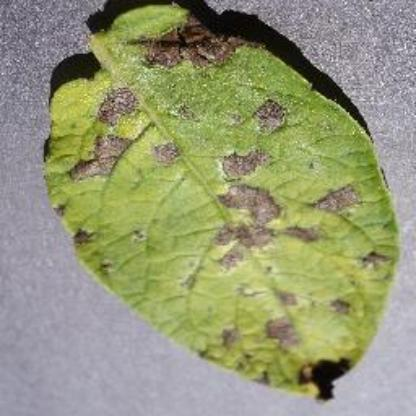Early-Blight: (42, 2, 398, 404)
